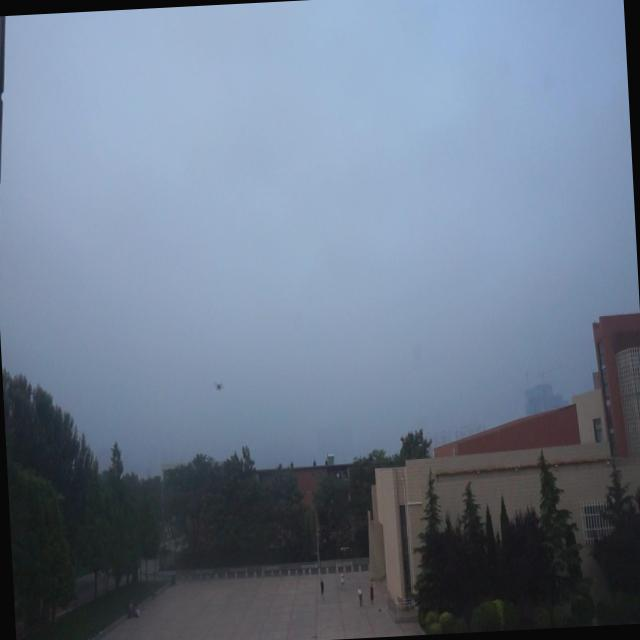drone: (212, 378, 226, 398)
